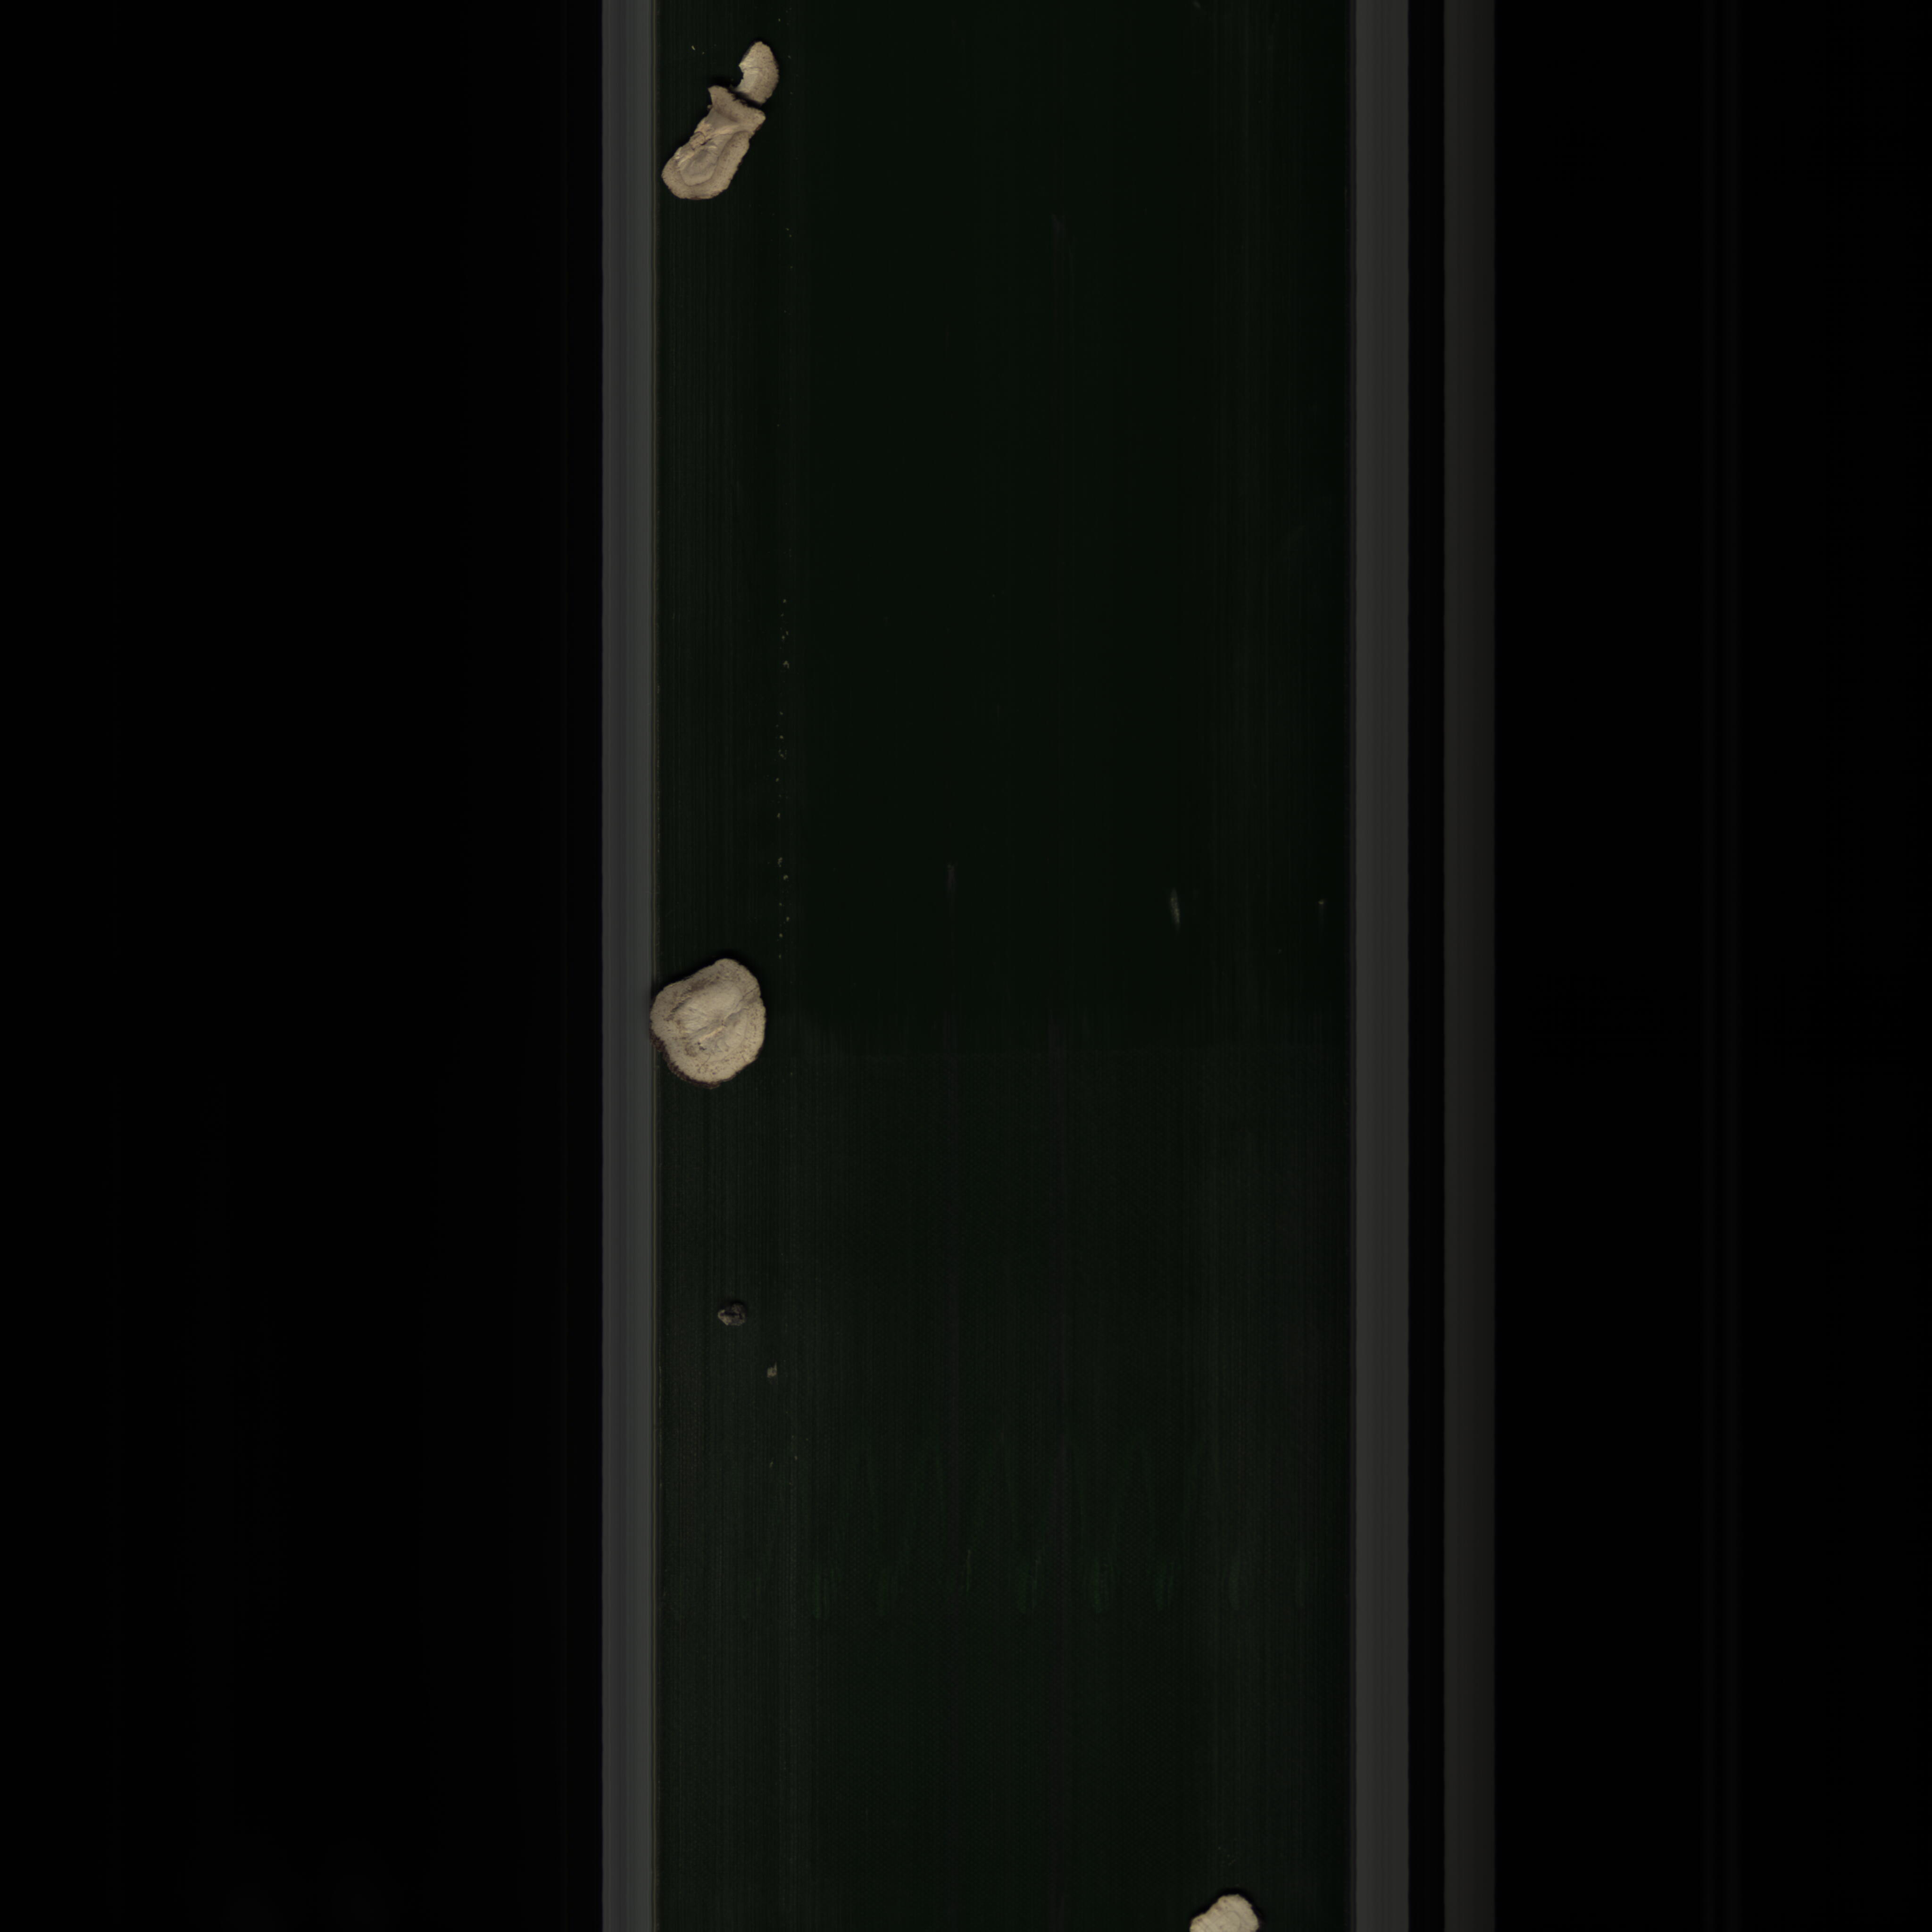debris: (658, 81, 766, 207)
